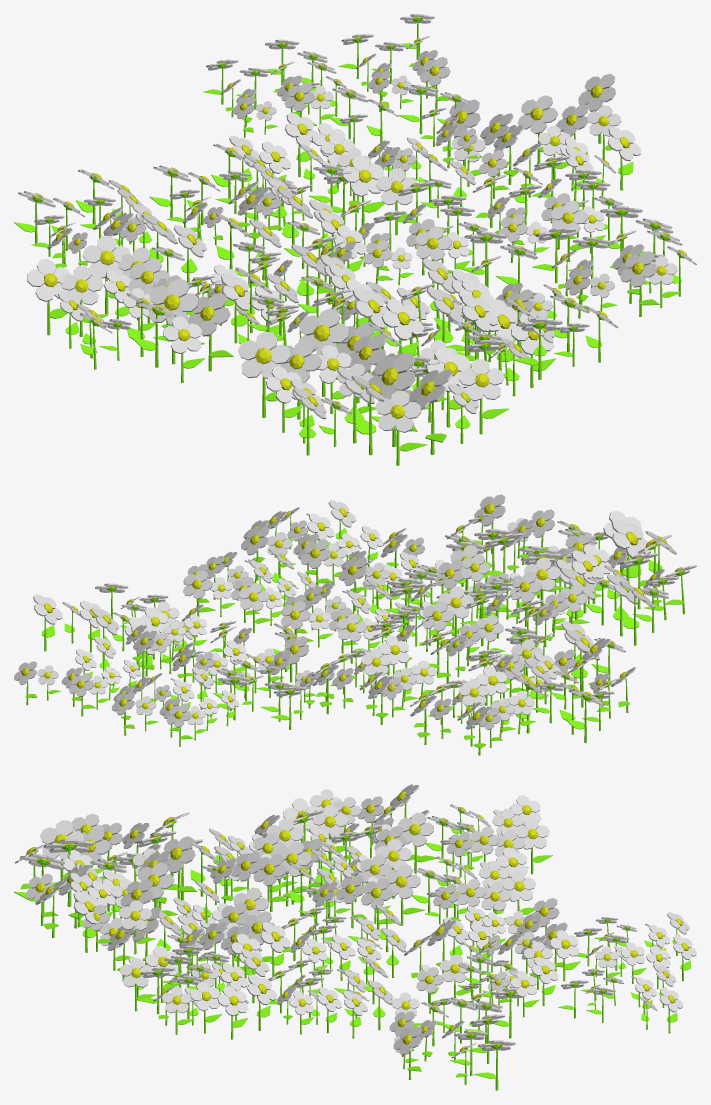
File: flores 1.fbx
3 views of the same model, one above another, from view 1: azimuth 30°, elevation 25°; view 2: azimuth 150°, elevation 25°; view 3: azimuth 270°, elevation 25° (orthographic). The views are drawn at different scales.
Visible parts, largest first — view 1: florr1.181, florr1.204, florr1.194, florr1.193, florr1.178, florr1.138, florr1.126, florr1.140, florr1.123, florr1.254, florr1.177, florr1.195 (+38 smaller); view 2: florr1.193, florr1.265, florr1.184, florr1.099, florr1.171, florr1.169, florr1.003, florr1.018, florr1, florr1.101, florr1.156, florr1.033 (+46 smaller); view 3: florr1.090, florr1.120, florr1.175, florr1.187, florr1.105, florr1.162, florr1.152, florr1.160, florr1.151, florr1.075, florr1.134, florr1.092 (+60 smaller).
Part boxes in pixels (x1,y1,x2,y2): florr1.181: (238,331,290,417); florr1.204: (458,359,509,434); florr1.194: (375,390,426,465); florr1.193: (365,353,417,447); florr1.178: (298,308,349,396); florr1.138: (148,278,204,364); florr1.126: (27,258,70,335); florr1.140: (187,293,233,371); florr1.123: (82,236,130,314); florr1.254: (342,156,384,225); florr1.177: (381,298,423,373); florr1.195: (409,369,452,454); florr1.193: (611,519,651,582); florr1.265: (33,594,62,651); florr1.184: (571,550,603,613); florr1.099: (438,586,473,636); florr1.171: (509,571,542,626); florr1.169: (524,557,560,605); florr1.003: (239,583,272,632); florr1.018: (300,539,332,586); florr1: (183,570,215,617); florr1.101: (422,601,453,654); florr1.156: (474,494,505,553); florr1.033: (337,613,370,663); florr1.090: (384,864,424,925); florr1.120: (398,812,438,873); florr1.175: (163,836,197,899); florr1.187: (40,820,84,880); florr1.105: (515,818,552,874); florr1.162: (253,854,289,911); florr1.152: (138,862,177,919); florr1.160: (275,841,311,904); florr1.151: (119,900,155,954); florr1.075: (502,870,535,914); florr1.134: (311,804,353,860); florr1.092: (360,878,395,930).
Size of the model in its own units: 82.34 by 12.75 by 90.16.
